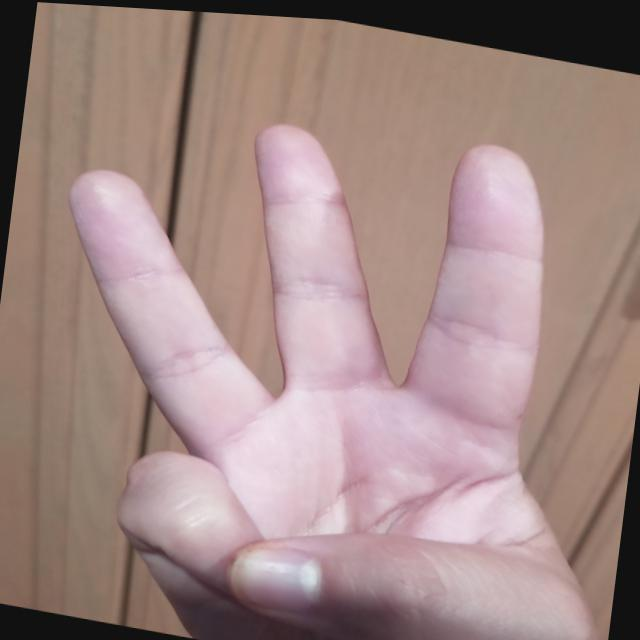W: (7, 58, 639, 640)
